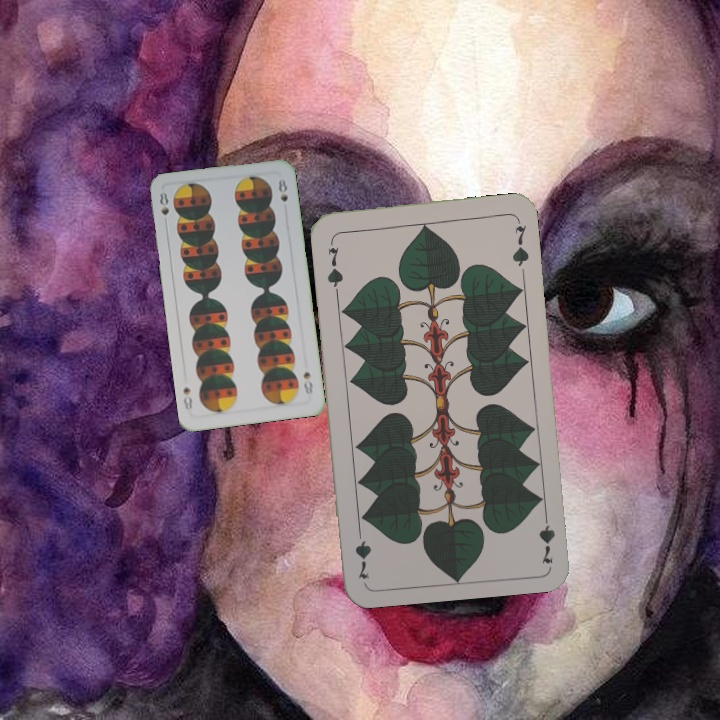G7: (323, 234, 346, 294), (535, 506, 557, 566)
S8: (299, 367, 315, 397), (156, 188, 171, 218)
